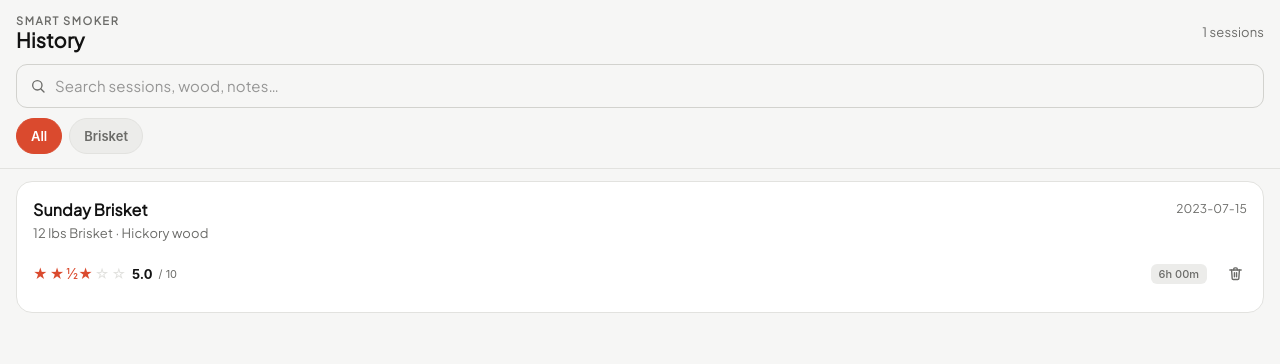
Scenario: History › offers the filters back when a search matches none of the cooks
The width and height of the screenshot is (1280, 364).
Expected: the heading "Sunday Brisket" is shown, [33,199,148,220]
In the search field named "Search smoke history": (656, 86) [55,71,1257,102], type "pastrami"
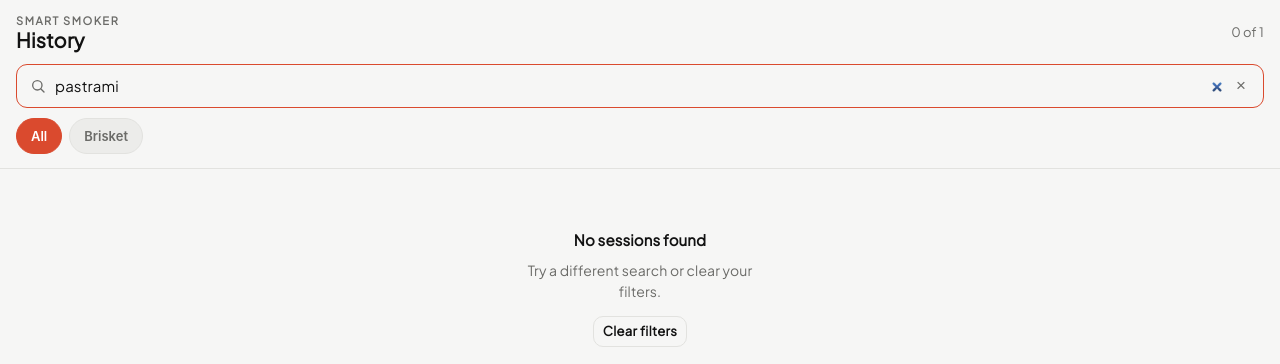
Now the text "No sessions found" is shown, box [574,229,706,252]
Now the text "Try a different search or clear your filters." is shown, box [515,260,765,302]
Click the button "Clear filters": (640, 331) [593,316,687,347]
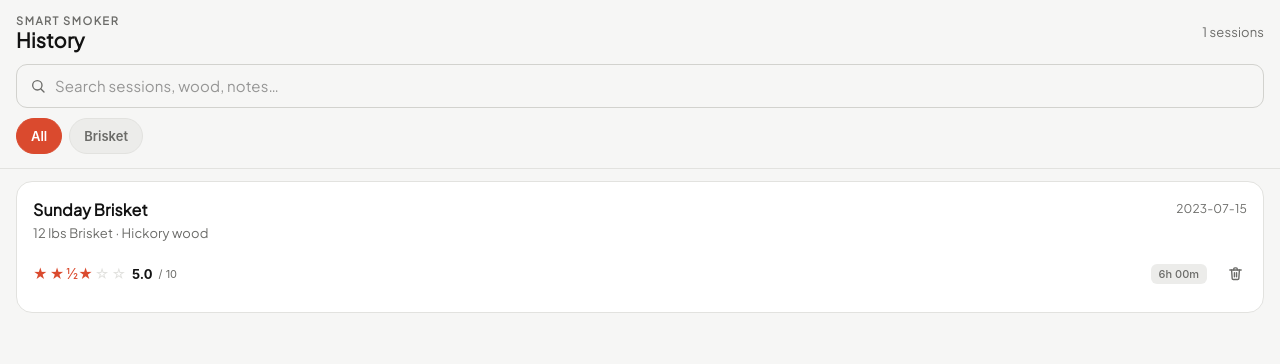
Now the heading "Sunday Brisket" is shown, box [33,199,148,220]
Now the search field named "Search smoke history" is empty, box [55,71,1257,102]
